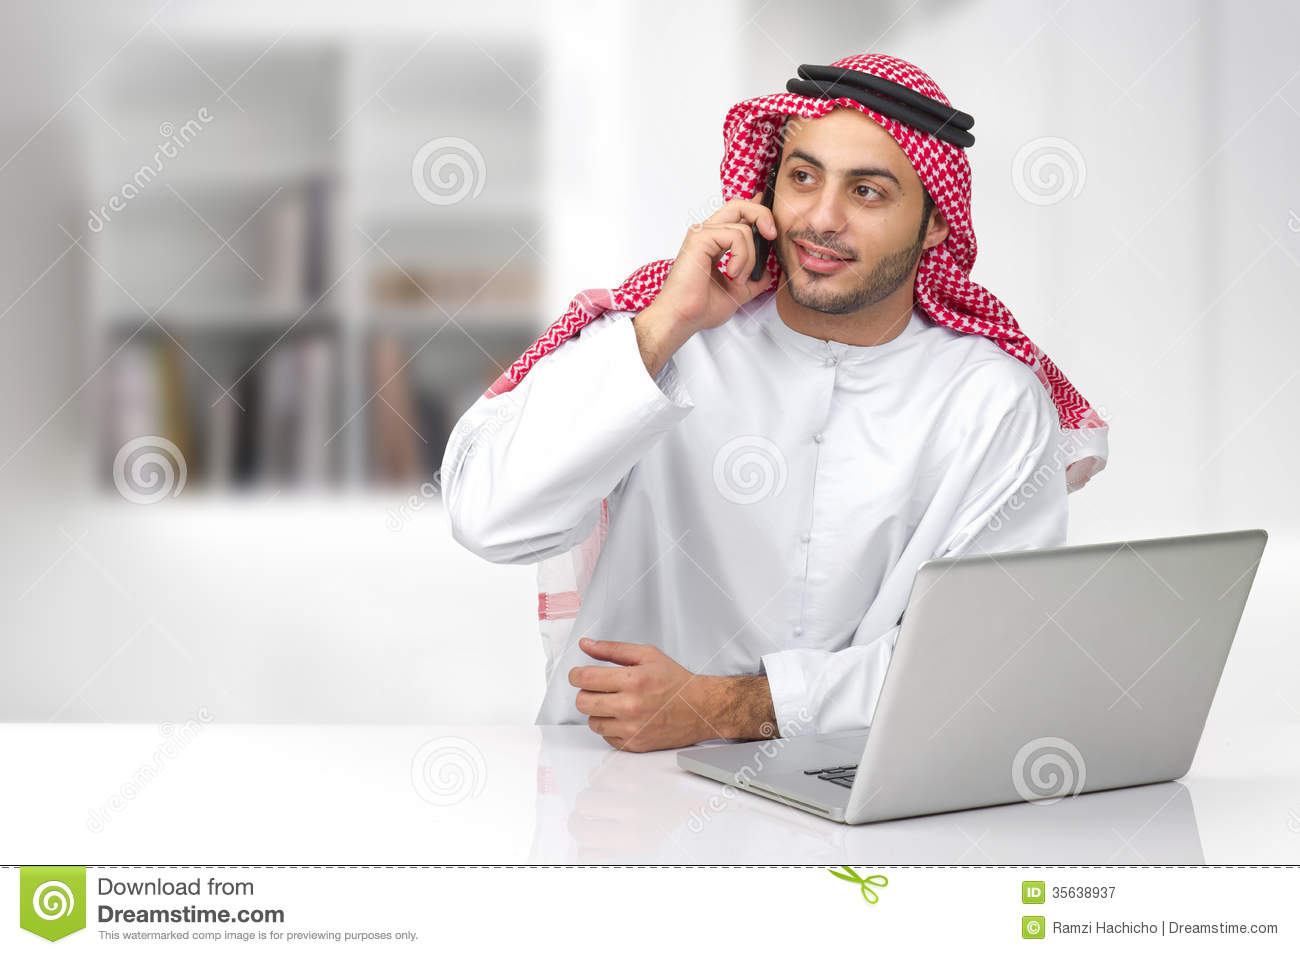phone: (741, 157, 784, 291)
talk: (665, 136, 907, 363)
